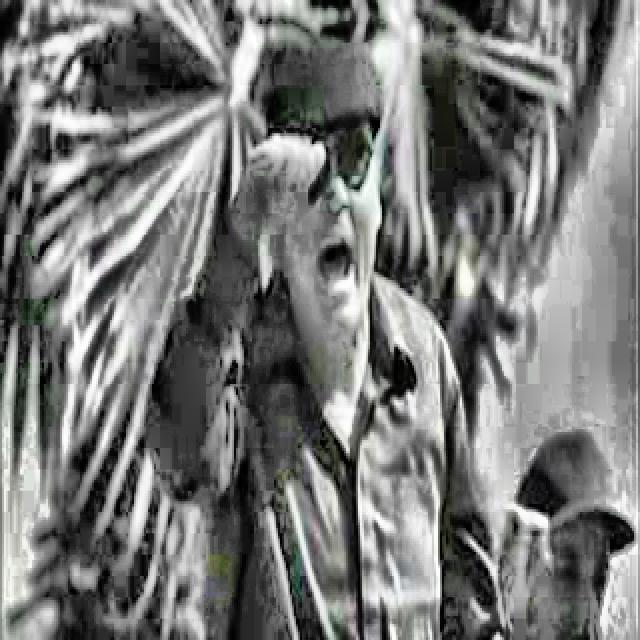T: (146, 36, 508, 638)
